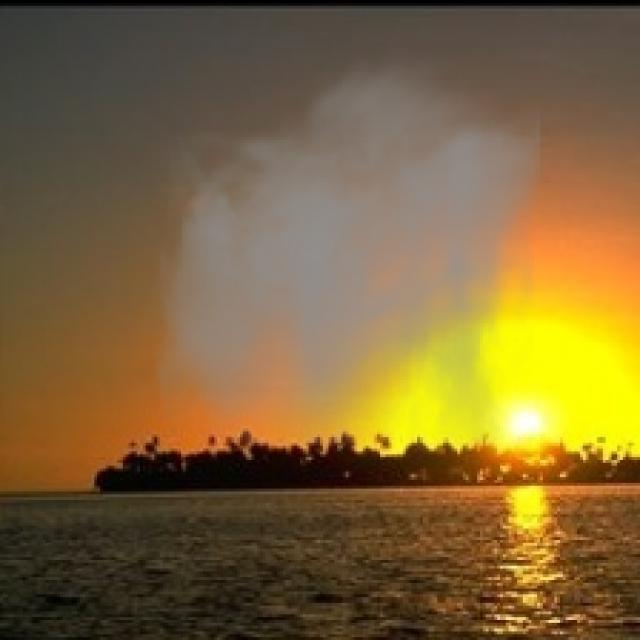Smoke: (155, 46, 540, 446)
